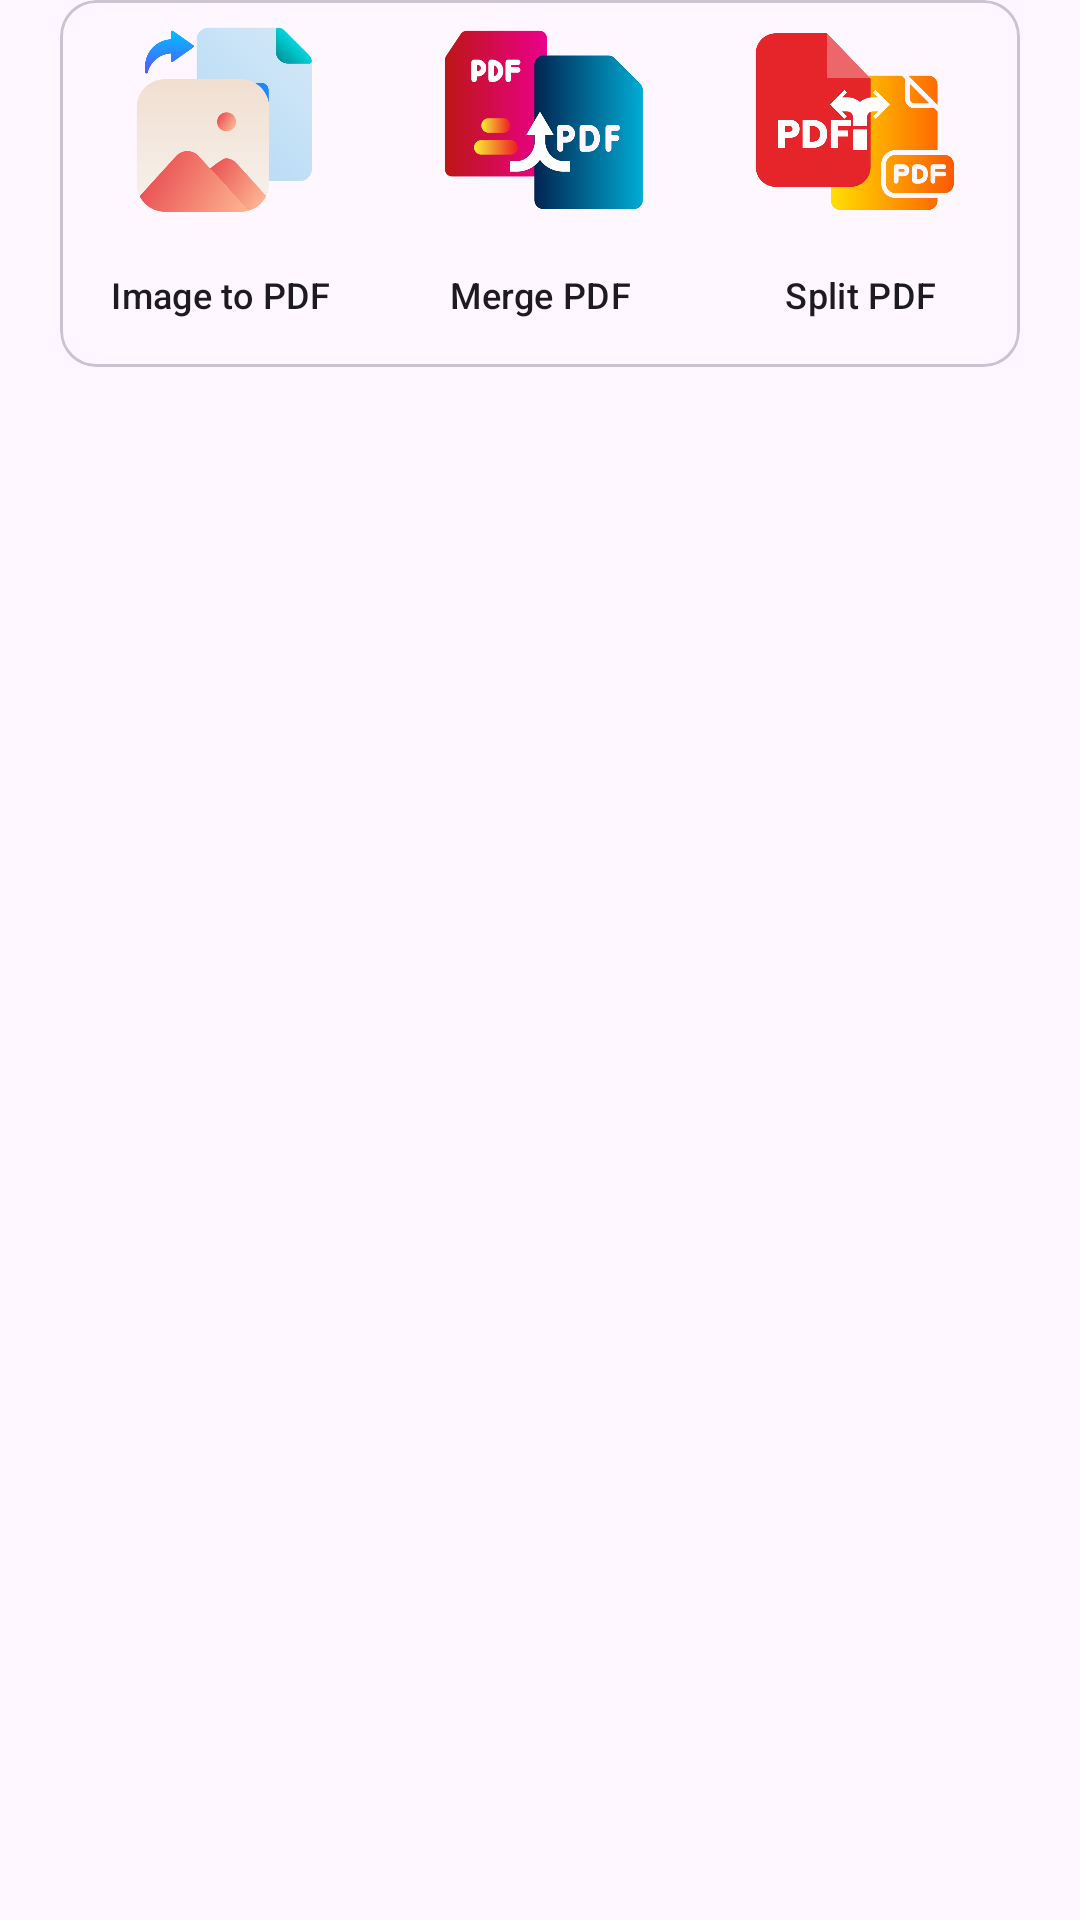

Icon bounding boxes for this 1080×1920 phone screenshot, format (x1, y1, x2, y2):
to pdf converter: (137, 27, 312, 212)
